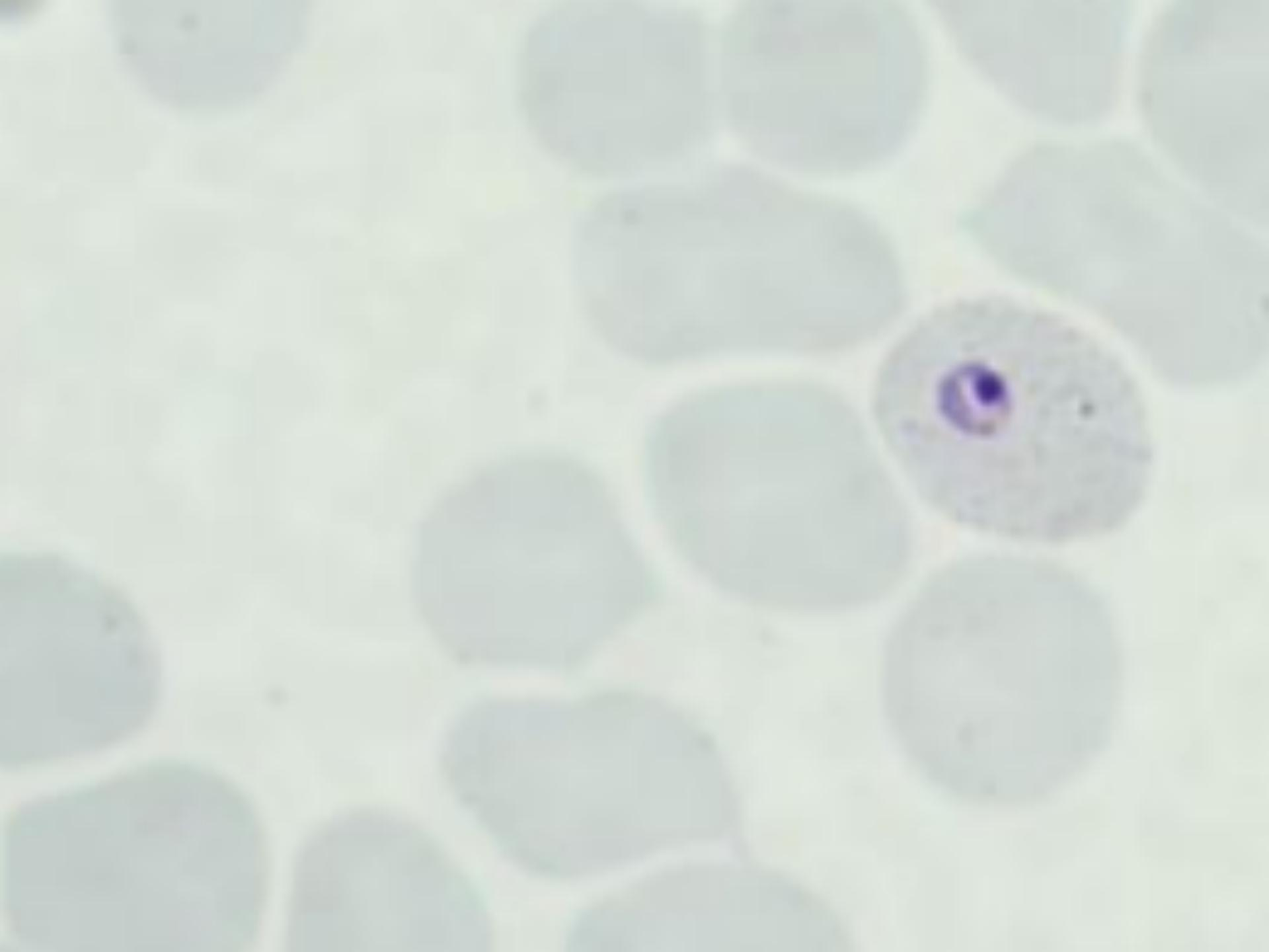Infected: (872, 294, 1156, 551)
Uninfected: (978, 135, 1260, 377), (577, 166, 914, 364), (635, 375, 906, 614), (890, 556, 1124, 815), (419, 455, 664, 674), (441, 688, 724, 874), (7, 761, 269, 952), (716, 0, 921, 179), (520, 0, 714, 173)
